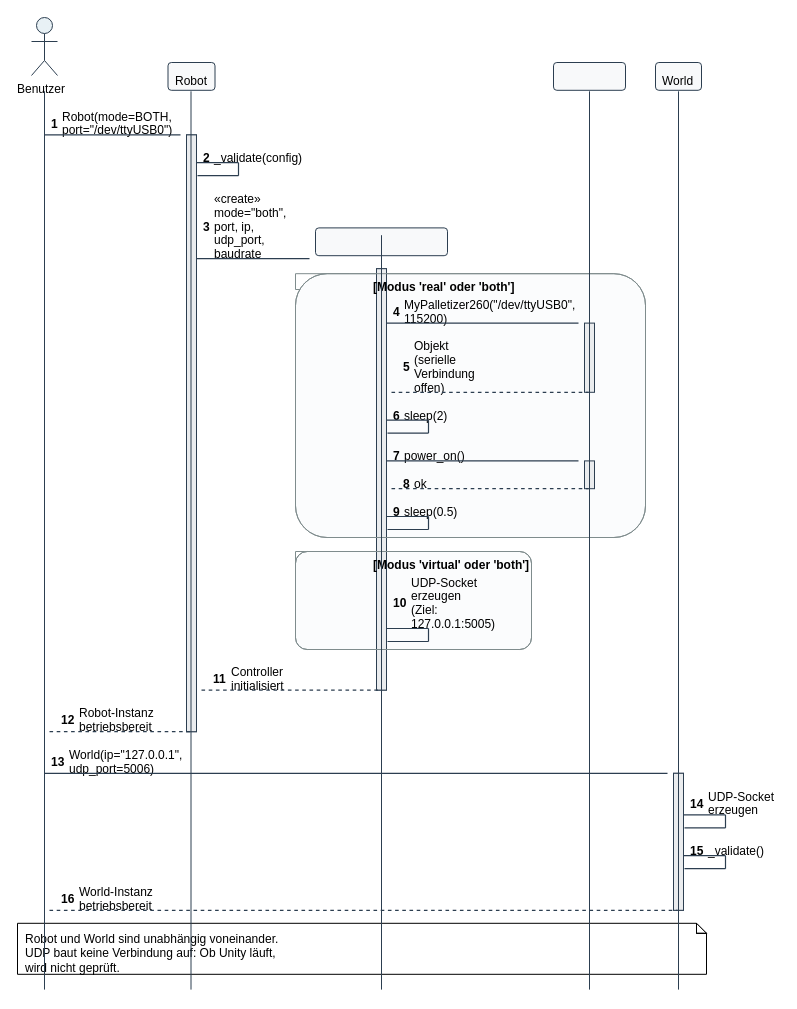
The diagram is 797 pixels wide and 1009 high, and some of its shapes have lost their labels. Here are the shapes that lost their labels. From the top down, the centre of each, then its label:
At (589,76): "pymycobot".
At (381,241): "MyPalletizerController".
